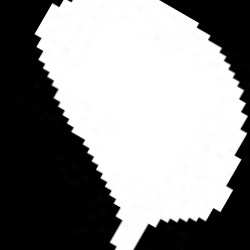spot: (34, 2, 250, 248)
